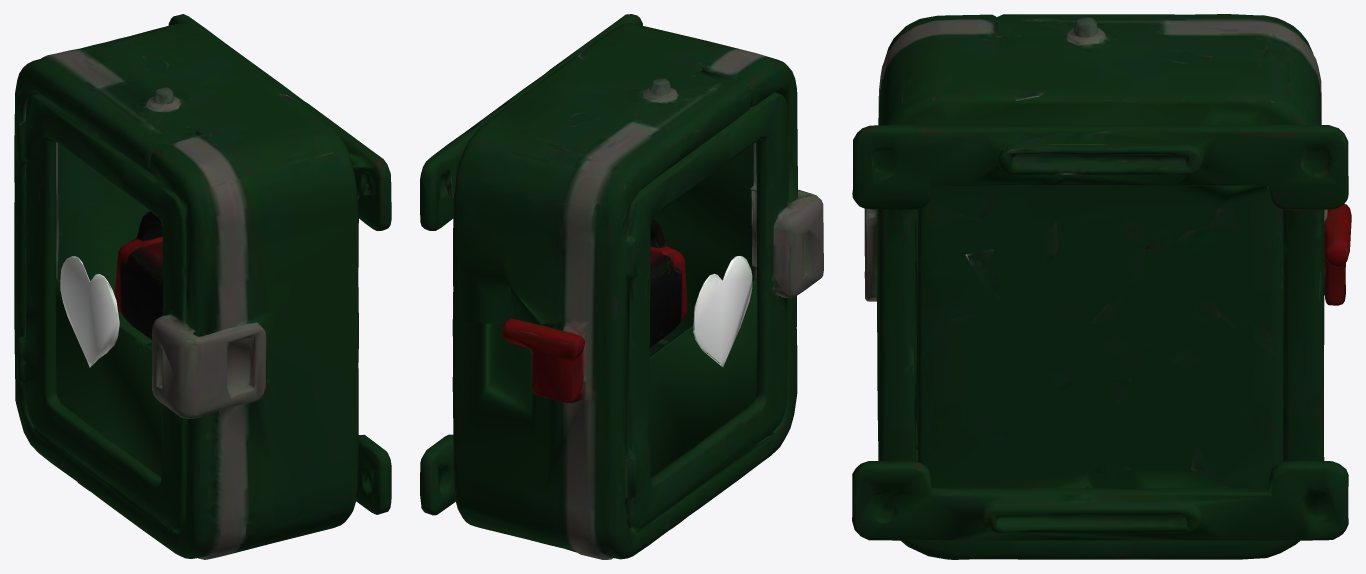
File: defibrillator.glb
3 renders of one model, left to right at view 1: azimuth 30°, elevation 25°; view 2: azimuth 150°, elevation 25°; view 3: azimuth 270°, elevation 25°, orthographic. The views are drawn at different scales.
Parts seen in each view (by area): view 1: geometry_0; view 2: geometry_0; view 3: geometry_0.
Boxes of the visible parts, <box> form: geometry_0: <box>14,14,391,559</box>; geometry_0: <box>420,14,823,559</box>; geometry_0: <box>852,14,1351,559</box>.
Size of the model in its own units: 0.5343 by 0.9987 by 0.9344.
1 material, 1 textured.
